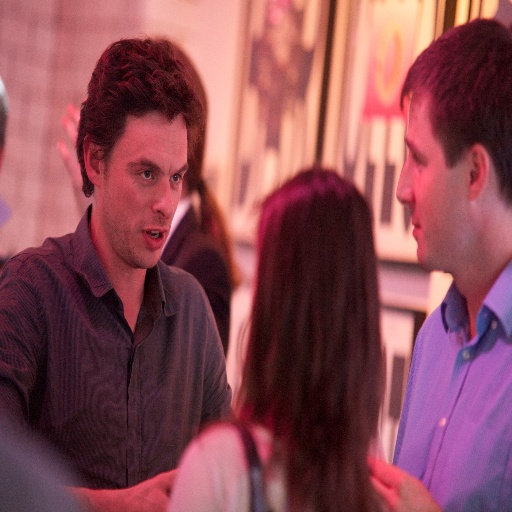hand: (161, 425, 279, 505), (367, 455, 438, 511), (122, 468, 179, 511)
